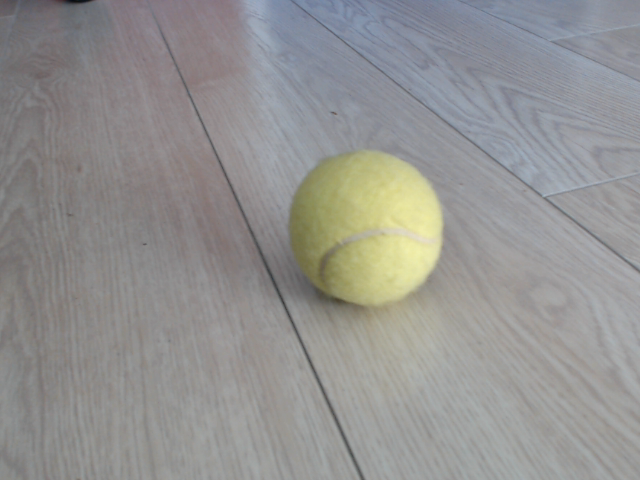ball: (286, 146, 446, 306)
